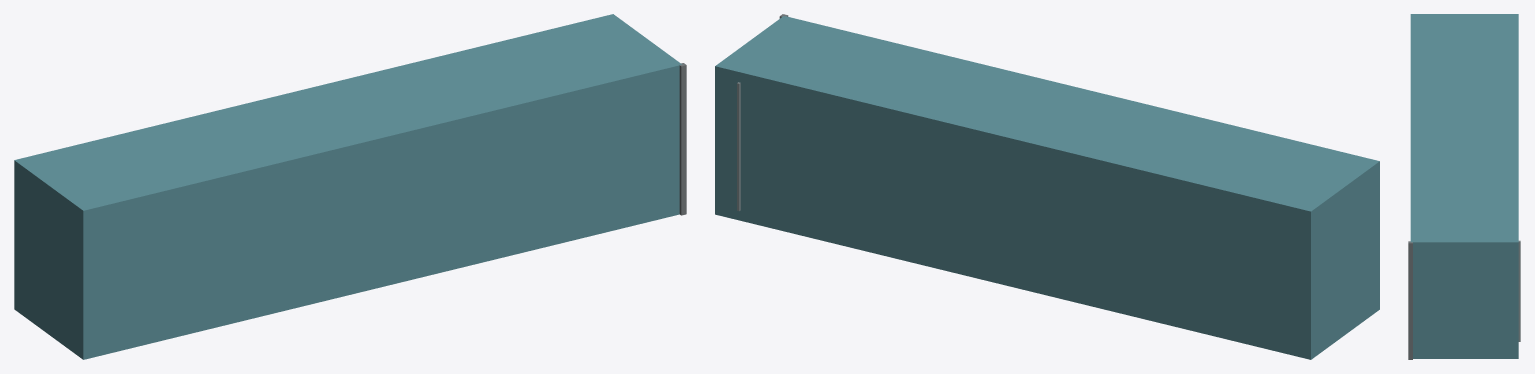
Rendered from container-40hc-lod0.glb.
The picture shows the model from 3 angles, left to right: view 1: azimuth 30°, elevation 25°; view 2: azimuth 150°, elevation 25°; view 3: azimuth 270°, elevation 25°; orthographic projection. The views are drawn at different scales.
Visible parts, largest first — view 1: body, corner; view 2: body; view 3: body, corner, rib.
Part boxes in pixels (<box>): body: <box>14,14,681,359</box>; corner: <box>678,63,686,215</box>; body: <box>715,16,1379,359</box>; body: <box>1410,14,1518,358</box>; corner: <box>1408,241,1412,359</box>; rib: <box>1518,240,1520,341</box>.
Size of the model in its own units: 12.24 by 2.9 by 2.54.
